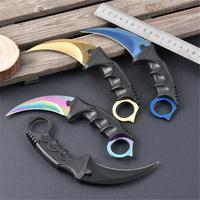knife: (27, 117, 171, 190), (80, 15, 181, 113), (25, 37, 144, 118), (3, 91, 135, 160)
